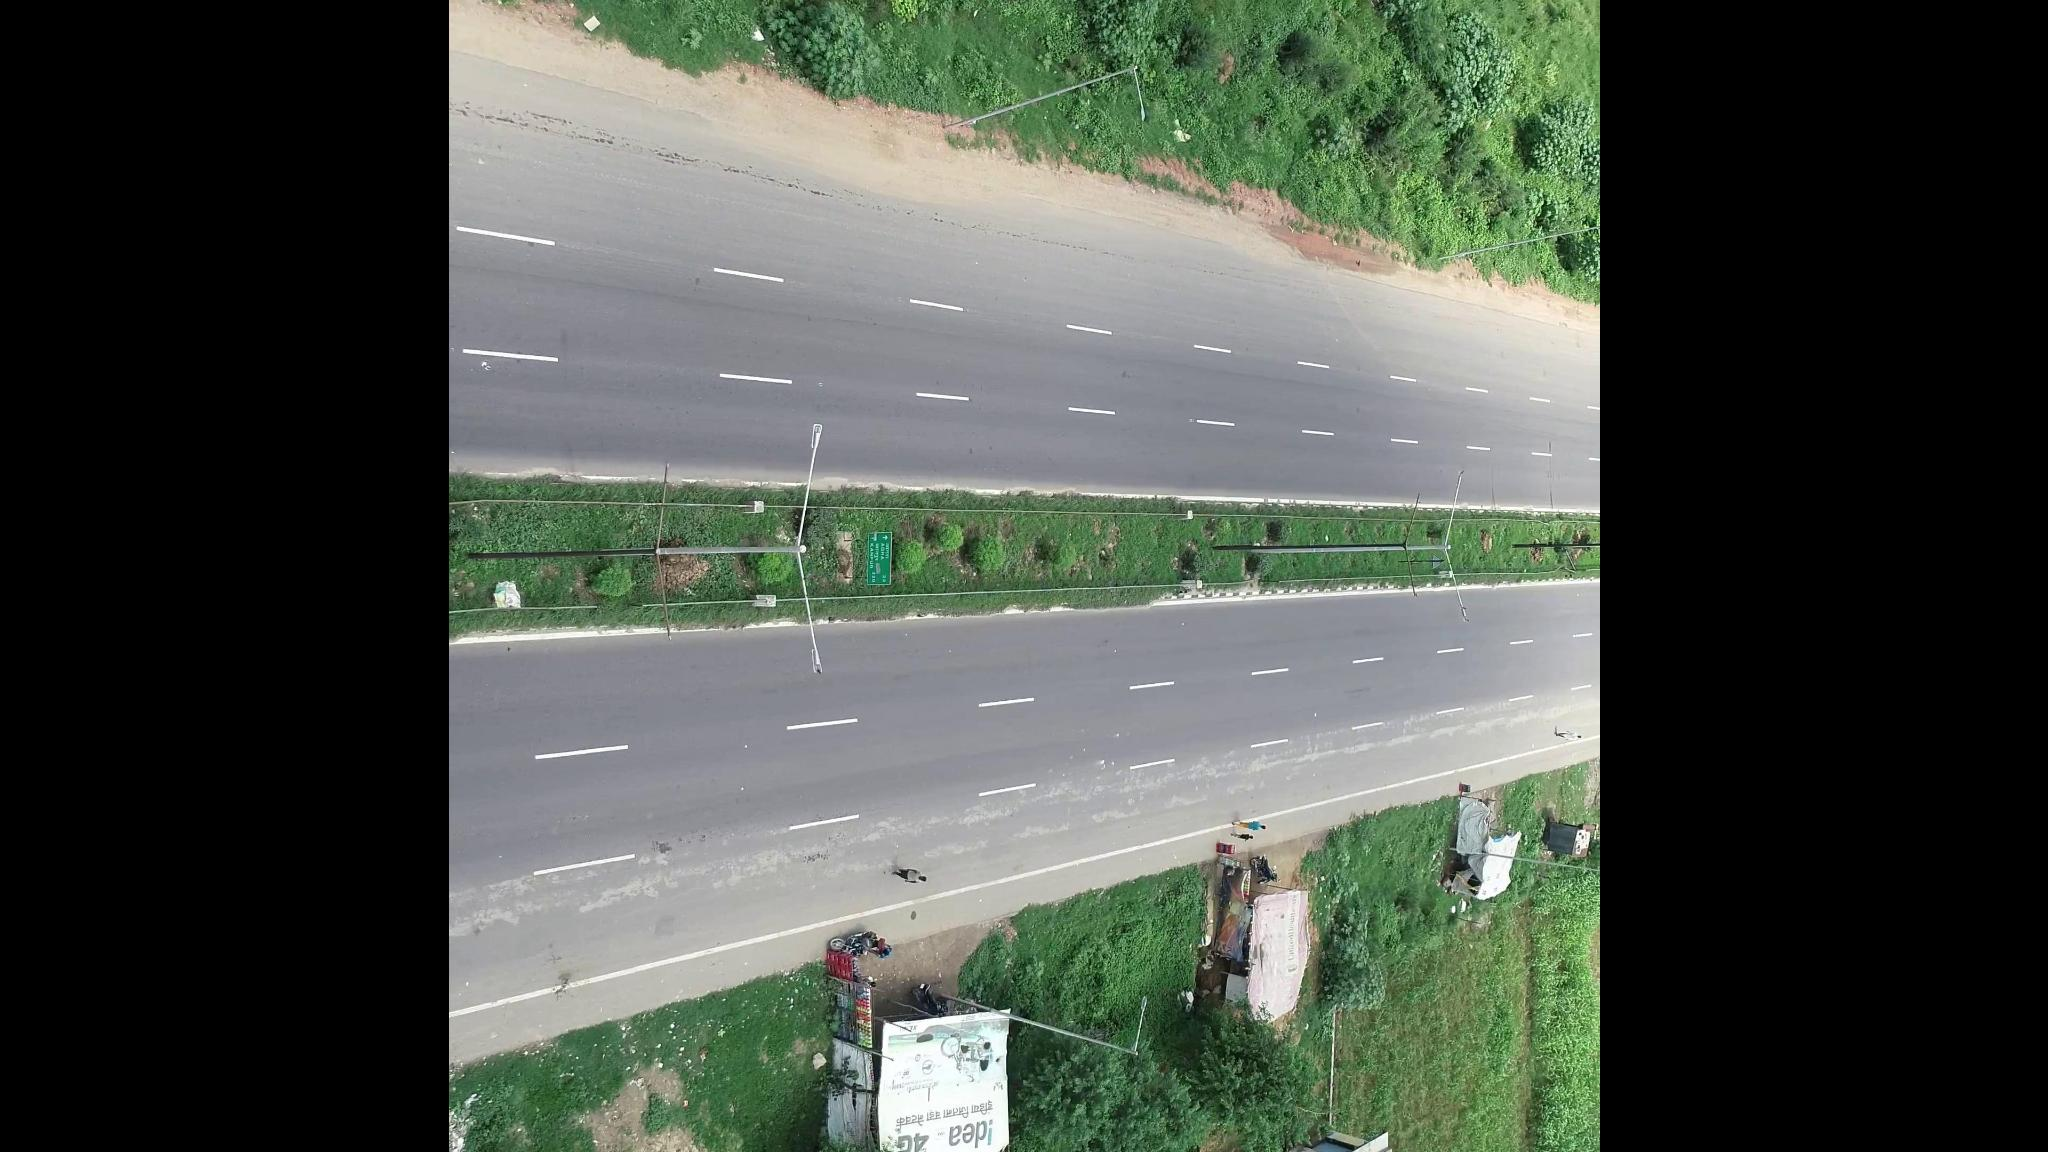Ravelling: (896, 771, 1115, 861), (1129, 741, 1345, 809), (1394, 702, 1574, 753)
